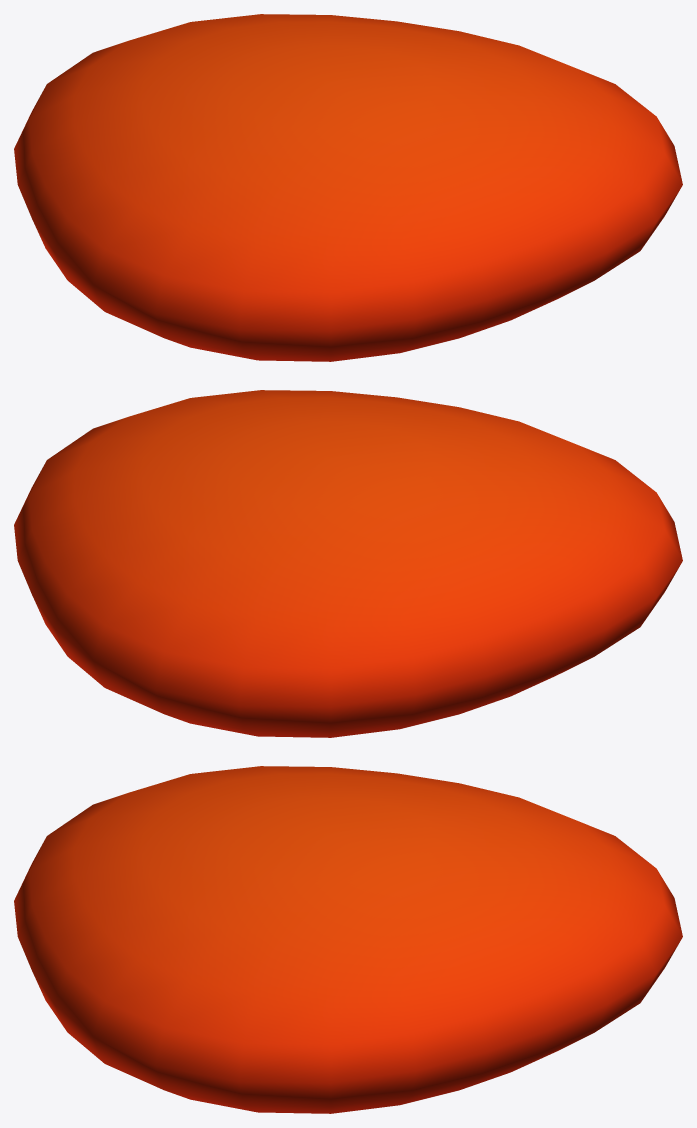
The model's file is chamber.obj.
The picture shows the model from 3 angles, top to bottom: view 1: azimuth 30°, elevation 25°; view 2: azimuth 150°, elevation 25°; view 3: azimuth 270°, elevation 25°; orthographic projection.
Parts seen in each view (by area): view 1: chamber; view 2: chamber; view 3: chamber.
Part boxes in pixels (x1,y1,x2,y2): chamber: [14, 14, 682, 361]; chamber: [14, 390, 682, 737]; chamber: [14, 766, 682, 1113].
Size of the model in its own units: 0.9283 by 0.31 by 0.9252.
